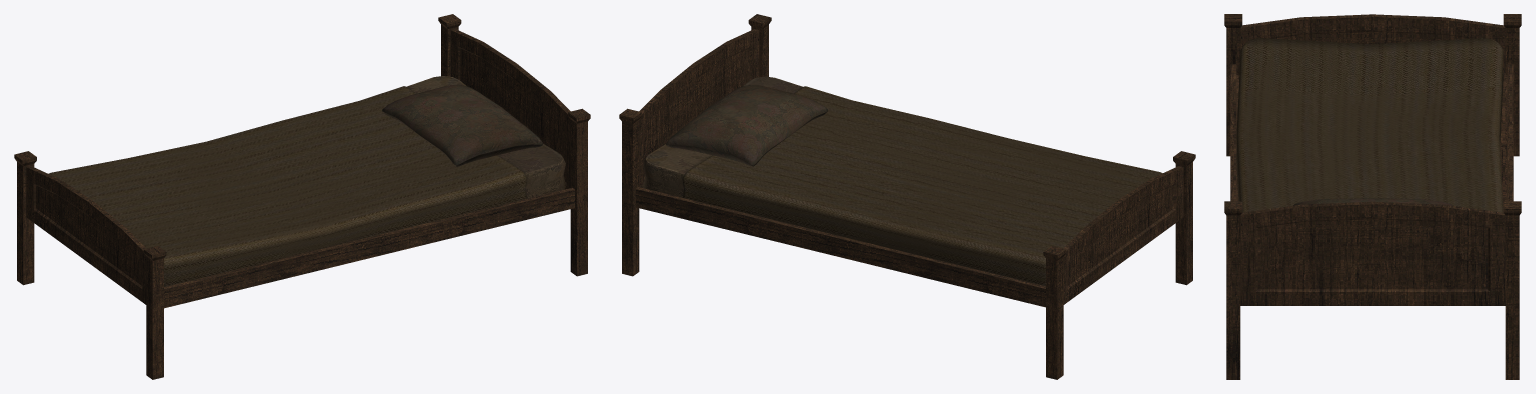
Rendered from bed_5_1.glb.
3 views of the same model, side by side, from view 1: azimuth 30°, elevation 25°; view 2: azimuth 150°, elevation 25°; view 3: azimuth 270°, elevation 25° (orthographic). The views are drawn at different scales.
Visible parts, largest first — view 1: bed_5_1; view 2: bed_5_1; view 3: bed_5_1.
Boxes of the visible parts, left/top/right/bottom form: bed_5_1: left=14, top=14, right=590, bottom=379; bed_5_1: left=619, top=14, right=1195, bottom=379; bed_5_1: left=1224, top=14, right=1521, bottom=379.
Size of the model in its own units: 2.74 by 0.9621 by 1.49.
Materials: 3 (3 with a texture image).
